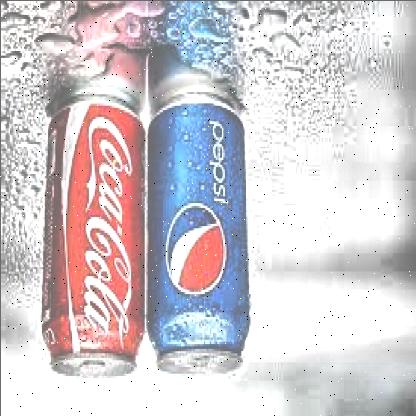Can: (36, 86, 146, 382), (144, 84, 252, 382)
